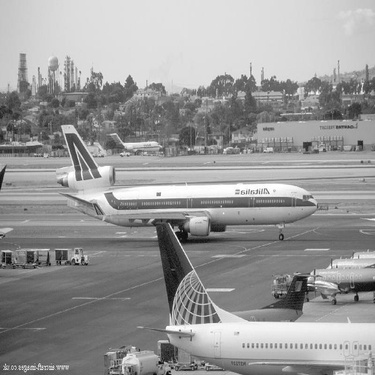airplane: (40, 104, 336, 259), (111, 211, 372, 372), (278, 257, 373, 307), (95, 119, 169, 159), (317, 246, 373, 275)
